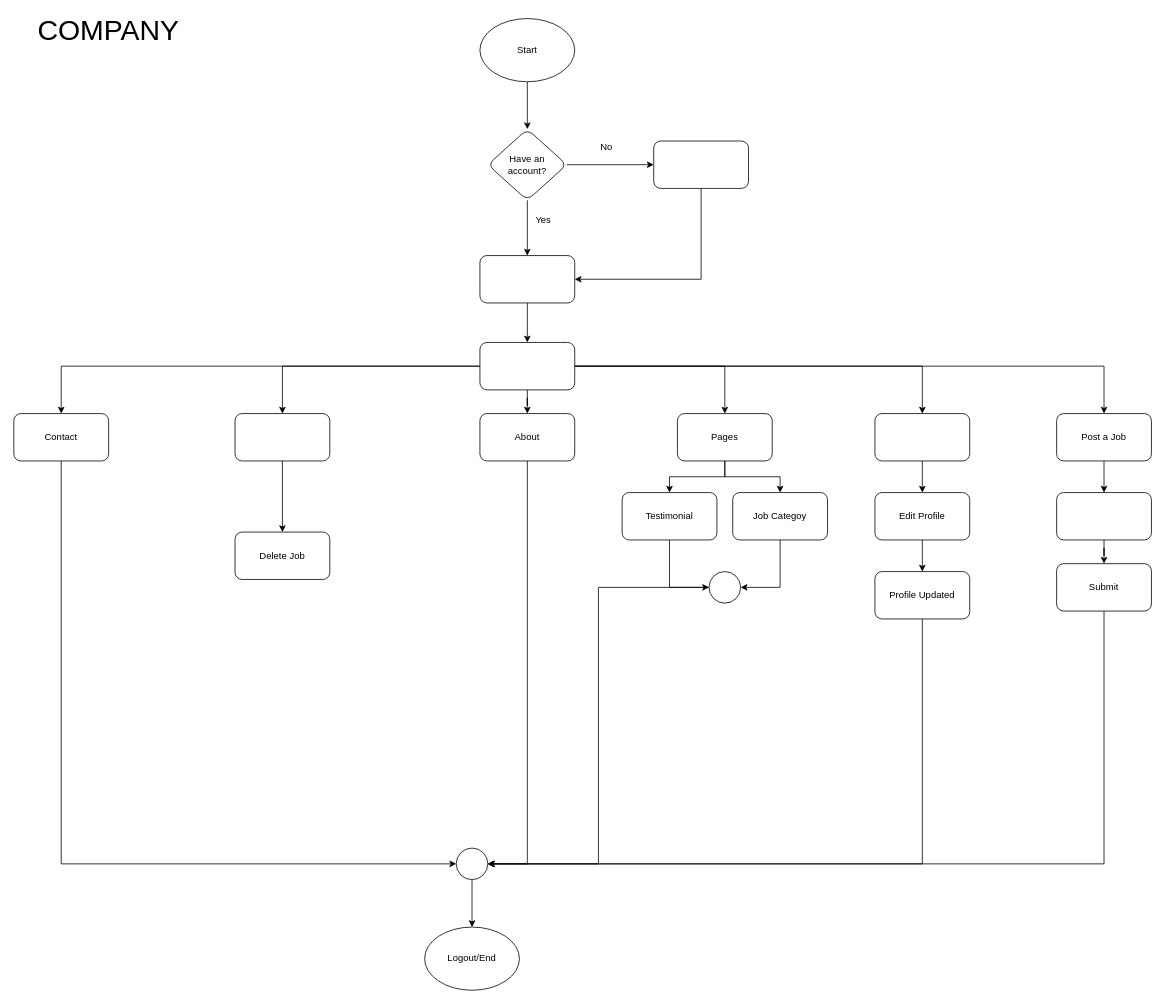
Some shapes in this 1165 by 1004 pixel diagram are drawn without their labels. The shapes that lost their labels are listed below. From the top down, each one's box as (x1, y1, x2, y2) in pixels, then its label:
(653, 140, 749, 188): Register
(479, 255, 575, 303): Login
(479, 342, 575, 390): Home
(234, 413, 330, 461): See Job List
(874, 413, 970, 461): Profile
(1056, 492, 1151, 540): Enter Job Details
